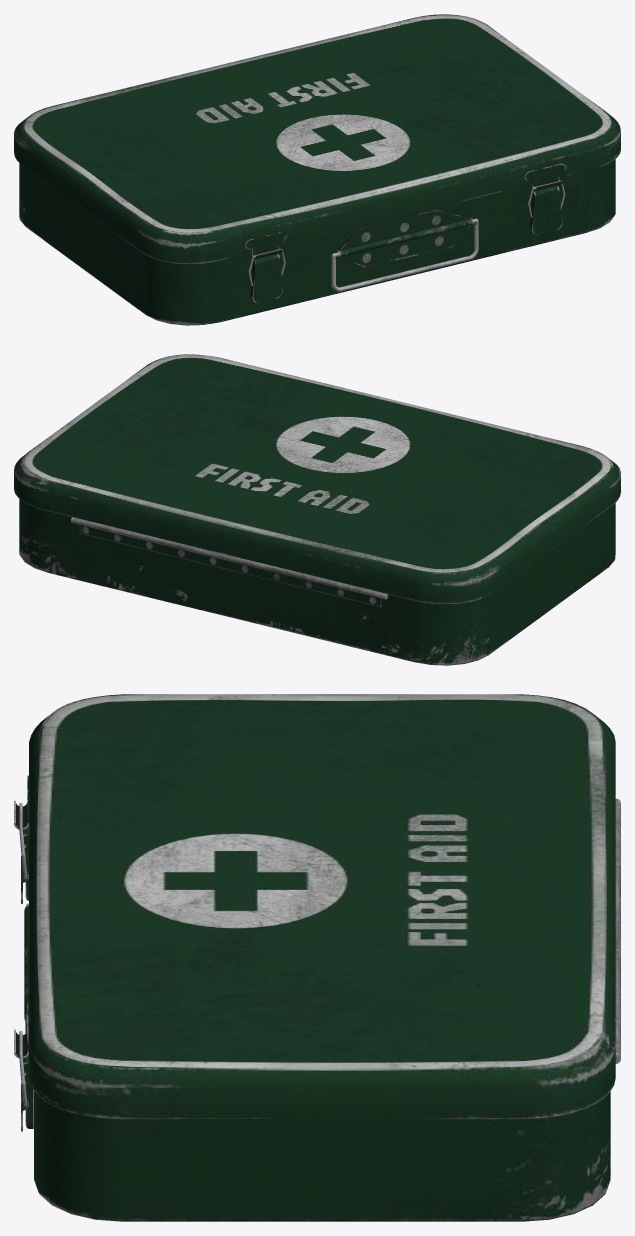
The model's file is ph_medical_box.gltf.
3 views of the same model, one above another, from view 1: azimuth 30°, elevation 25°; view 2: azimuth 150°, elevation 25°; view 3: azimuth 270°, elevation 25° (orthographic). The views are drawn at different scales.
Visible parts, largest first — view 1: Body; view 2: Body; view 3: Body.
Boxes of the visible parts, box(x1,y1,x2,y2) form: Body: box(14, 14, 620, 325); Body: box(14, 354, 620, 665); Body: box(14, 694, 620, 1221).
Bounding box in the file's own units: 0.5255 × 0.0975 × 0.3502.
Materials: 1 (1 with a texture image).
